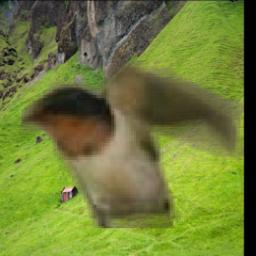Swallow: (22, 60, 244, 228)
